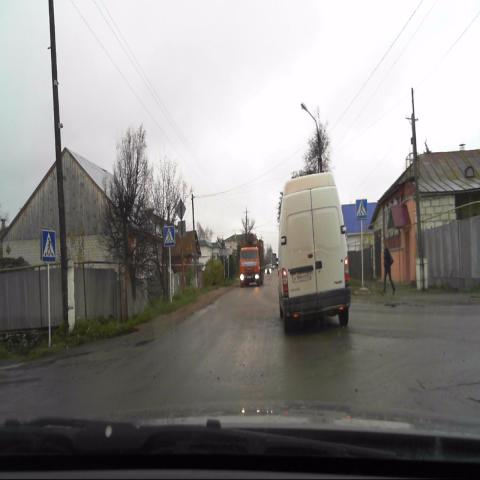5_19_1: (42, 230, 56, 260), (164, 226, 175, 246), (357, 199, 366, 220)
